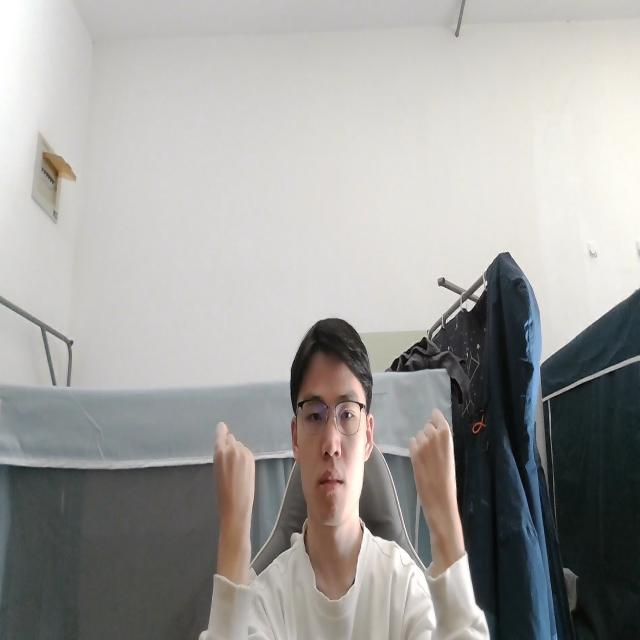ten: (407, 406, 462, 547), (212, 420, 256, 552)
